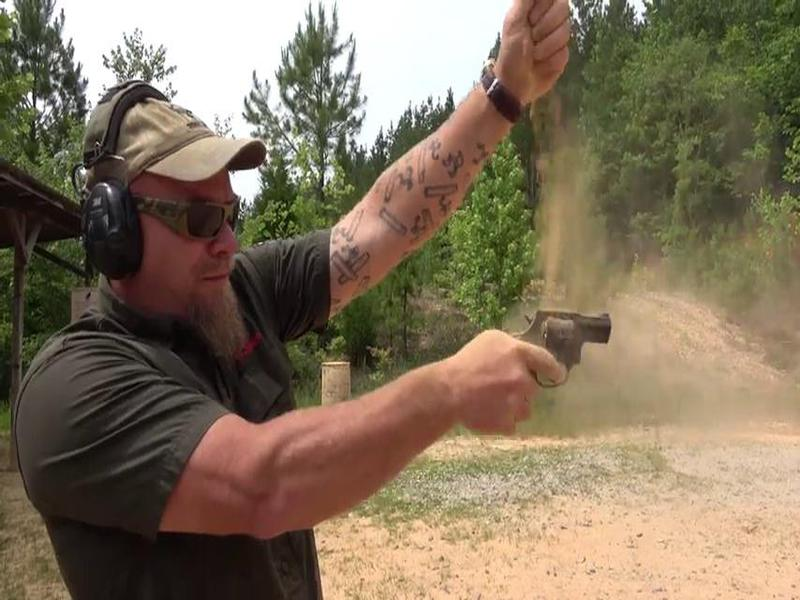Revolver: (497, 283, 639, 427)
